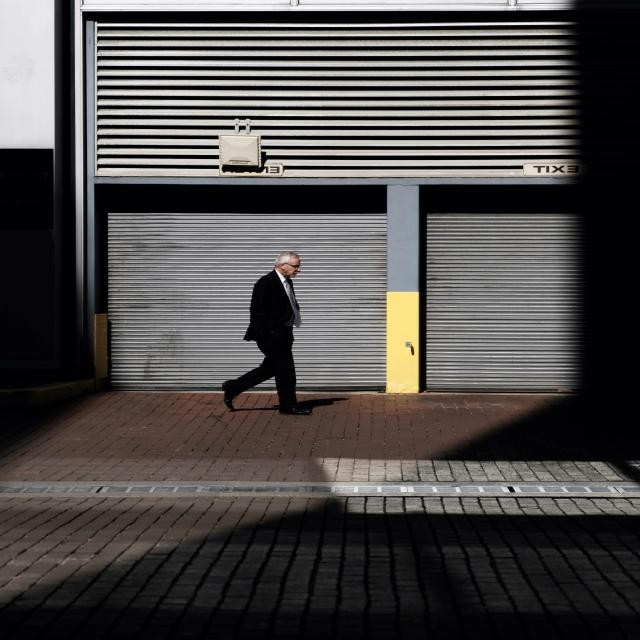adult: (221, 250, 314, 418)
